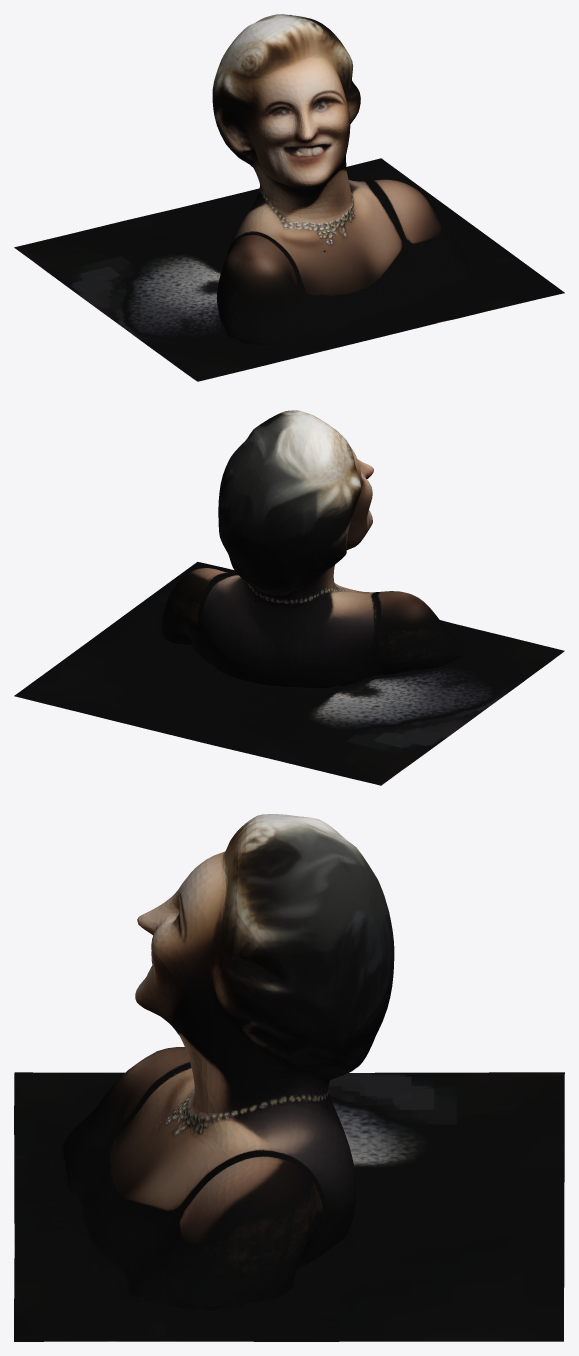
File: sample.glb
The picture shows the model from 3 angles, top to bottom: view 1: azimuth 30°, elevation 25°; view 2: azimuth 150°, elevation 25°; view 3: azimuth 270°, elevation 25°; orthographic projection. The views are drawn at different scales.
Visible parts, largest first — view 1: world; view 2: world; view 3: world.
Part boxes in pixels (<box>): world: <box>14,14,564,381</box>; world: <box>14,410,564,785</box>; world: <box>14,814,564,1341</box>.
Size of the model in its own units: 1 by 0.6651 by 0.8675.
1 material, 1 textured.
